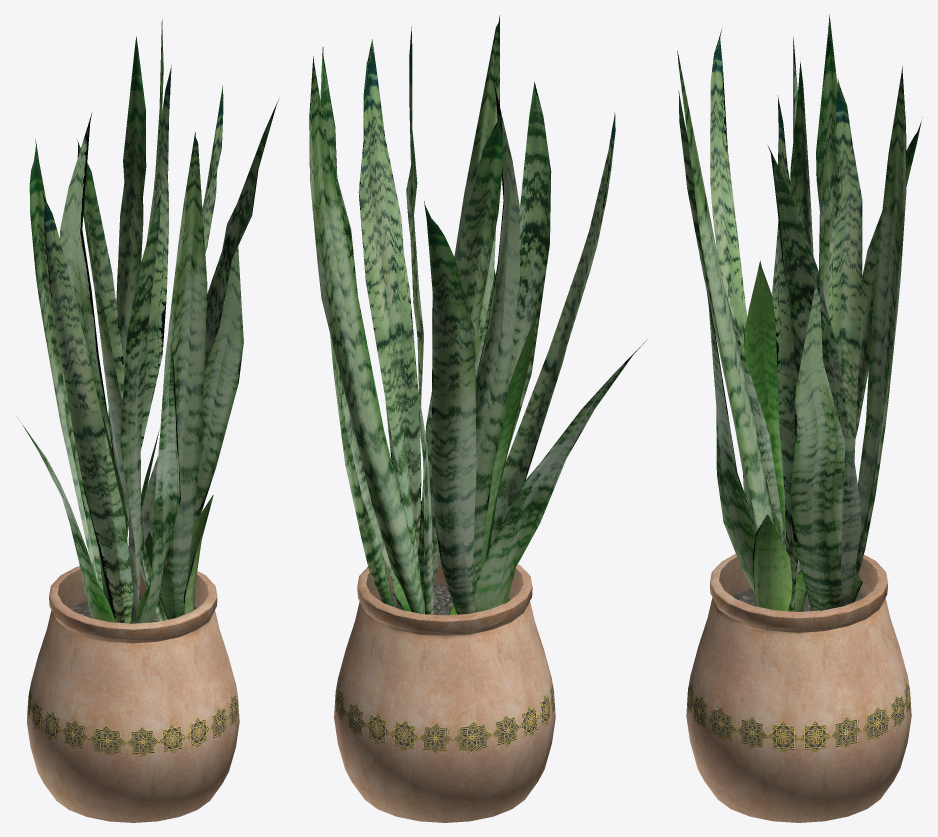
Rendered from Plant 3.fbx.
3 renders of one model, left to right at view 1: azimuth 30°, elevation 25°; view 2: azimuth 150°, elevation 25°; view 3: azimuth 270°, elevation 25°, orthographic. The views are drawn at different scales.
Visible parts, largest first — view 1: Plant 3; view 2: Plant 3; view 3: Plant 3.
Part boxes in pixels (<box>): Plant 3: <box>19,19,278,822</box>; Plant 3: <box>309,15,647,822</box>; Plant 3: <box>677,14,921,822</box>.
Size of the model in its own units: 60.83 by 150 by 42.43.
2 materials, 2 textured.
